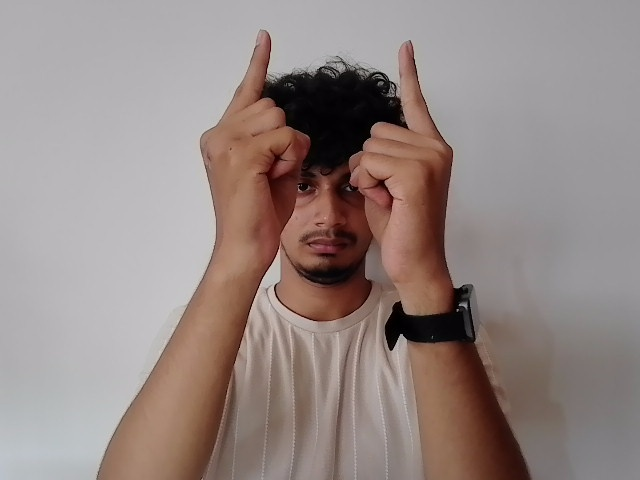play: (195, 28, 450, 263)
